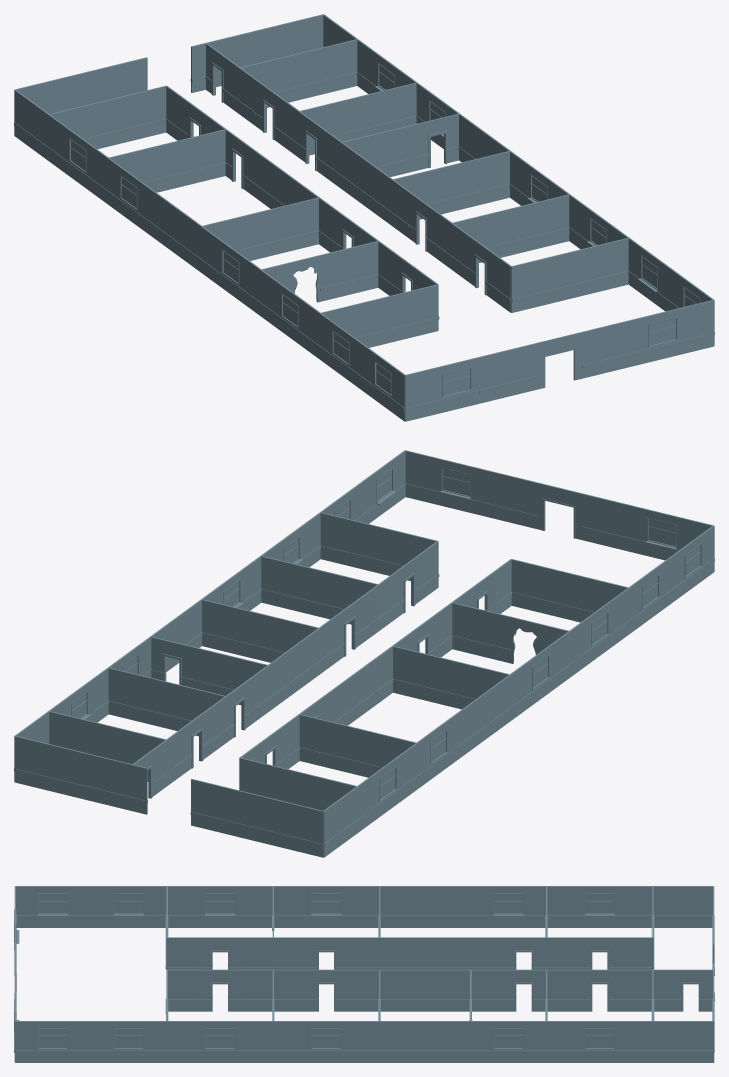
File: location.fbx
The picture shows the model from 3 angles, top to bottom: view 1: azimuth 30°, elevation 25°; view 2: azimuth 150°, elevation 25°; view 3: azimuth 270°, elevation 25°; orthographic projection. The views are drawn at different scales.
Visible parts, largest first — view 1: Wall_window_1.013, Wall_window_1.012, wall_door.004, Wall_2.024, Wall_2.090, Wall_2.094, Wall_2.075, Wall_2.062, Wall_2.058, Wall_2.027, Wall_2.093, Wall_2.057 (+90 smaller); view 2: Wall_window_1.012, Wall_window_1.013, wall_door.004, Wall_2.096, Wall_2.045, Wall_2.062, Wall_2.098, Wall_2.070, Wall_2.058, Wall_2.099, Wall_2.095, Wall_2.046 (+90 smaller); view 3: Wall_window_1.010, Wall_window_1.001, Wall_window_1.011, Wall_window_1.009, Wall_window_1.008, Wall_window_1.007, Wall_window_1.006, Wall_window_1.005, Wall_window_1.004, Wall_window_1.003, Wall_window_1.002, Wall_window_1 (+62 smaller).
Part boxes in pixels (left/top/right/bottom): Wall_window_1.013: left=435, top=357, right=479, bottom=414; Wall_window_1.012: left=640, top=307, right=684, bottom=364; wall_door.004: left=415, top=113, right=459, bottom=170; Wall_2.024: left=511, top=259, right=541, bottom=312; Wall_2.090: left=405, top=368, right=435, bottom=421; Wall_2.094: left=581, top=325, right=611, bottom=378; Wall_2.075: left=108, top=93, right=137, bottom=146; Wall_2.062: left=320, top=248, right=349, bottom=301; Wall_2.058: left=379, top=291, right=409, bottom=345; Wall_2.027: left=541, top=252, right=570, bottom=305; Wall_2.093: left=611, top=317, right=640, bottom=371; Wall_2.057: left=408, top=284, right=438, bottom=337; Wall_window_1.012: left=434, top=457, right=478, bottom=514; Wall_window_1.013: left=639, top=507, right=684, bottom=560; wall_door.004: left=151, top=636, right=194, bottom=688; Wall_2.096: left=293, top=804, right=323, bottom=857; Wall_2.045: left=43, top=743, right=73, bottom=796; Wall_2.062: left=480, top=609, right=510, bottom=663; Wall_2.098: left=234, top=789, right=264, bottom=843; Wall_2.070: left=328, top=721, right=358, bottom=774; Wall_2.058: left=540, top=566, right=570, bottom=619; Wall_2.099: left=205, top=782, right=235, bottom=835; Wall_2.095: left=581, top=493, right=610, bottom=546; Wall_2.046: left=73, top=750, right=103, bottom=803; Wall_window_1.010: left=303, top=886, right=349, bottom=927; Wall_window_1.001: left=303, top=1021, right=349, bottom=1062; Wall_window_1.011: left=197, top=886, right=242, bottom=927; Wall_window_1.009: left=486, top=886, right=531, bottom=927; Wall_window_1.008: left=577, top=886, right=622, bottom=927; Wall_window_1.007: left=30, top=886, right=75, bottom=927; Wall_window_1.006: left=106, top=886, right=151, bottom=927; Wall_window_1.005: left=106, top=1021, right=151, bottom=1062; Wall_window_1.004: left=30, top=1021, right=75, bottom=1062; Wall_window_1.003: left=577, top=1021, right=622, bottom=1062; Wall_window_1.002: left=486, top=1021, right=531, bottom=1062; Wall_window_1: left=197, top=1021, right=242, bottom=1062.
Size of the model in its own units: 2117 by 300 by 4617.
